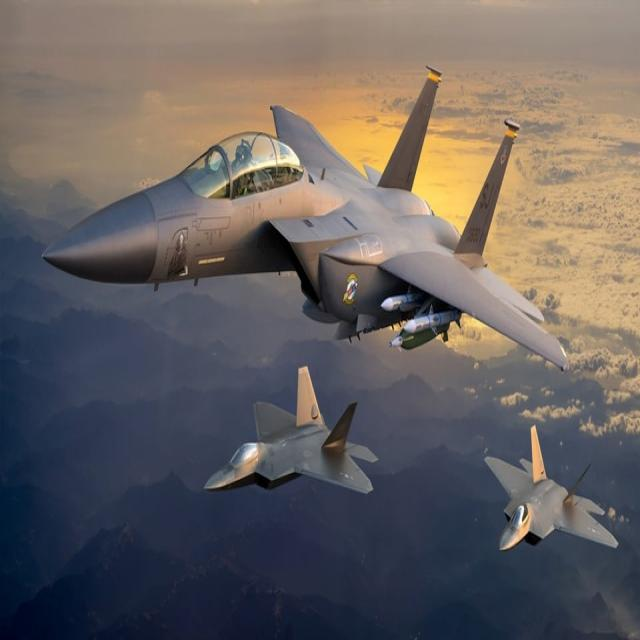F15: (22, 58, 585, 420), (468, 374, 634, 588), (199, 354, 390, 533)
